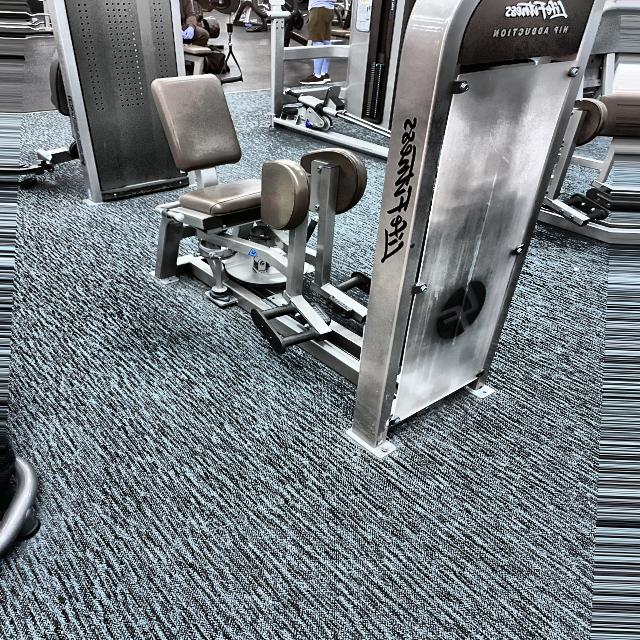hip_adduction_machine: (100, 81, 382, 351), (482, 24, 578, 45)
